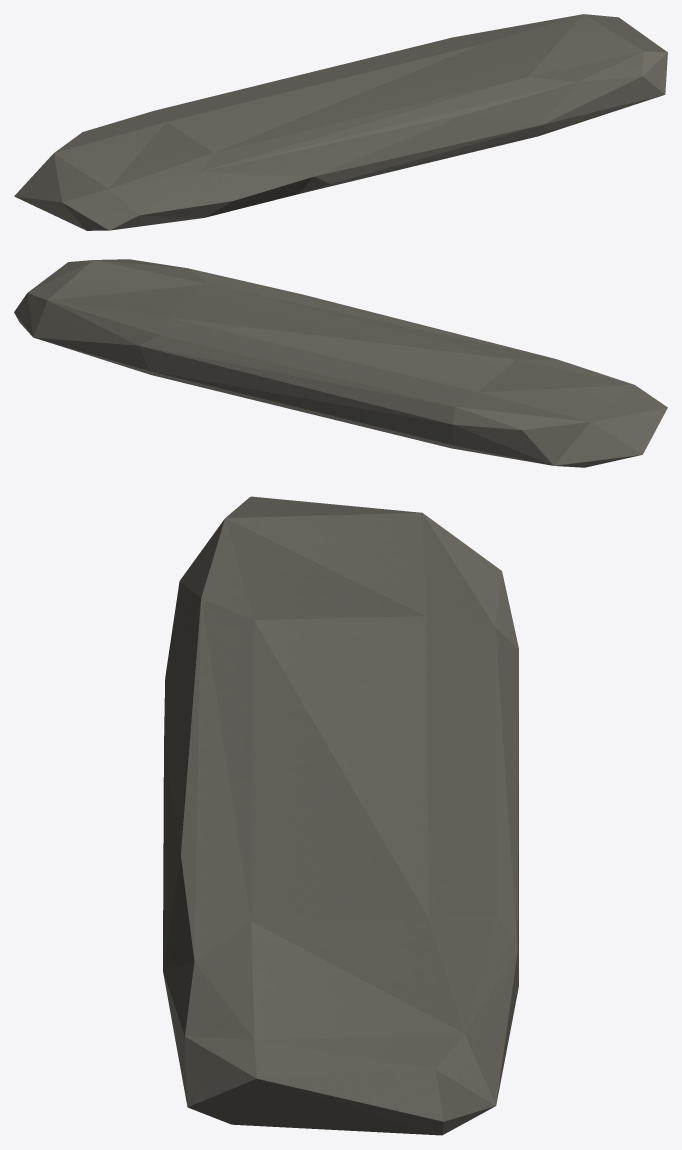
The model's file is Stair_2A.fbx.
3 renders of one model, top to bottom at view 1: azimuth 30°, elevation 25°; view 2: azimuth 150°, elevation 25°; view 3: azimuth 270°, elevation 25°, orthographic. The views are drawn at different scales.
Parts seen in each view (by area): view 1: Group56089; view 2: Group56089; view 3: Group56089.
Part boxes in pixels (<box>): Group56089: <box>14,14,667,230</box>; Group56089: <box>14,259,667,467</box>; Group56089: <box>163,496,518,1135</box>.
Size of the model in its own units: 601 by 44.96 by 150.
Materials: 1 (1 with a texture image).
